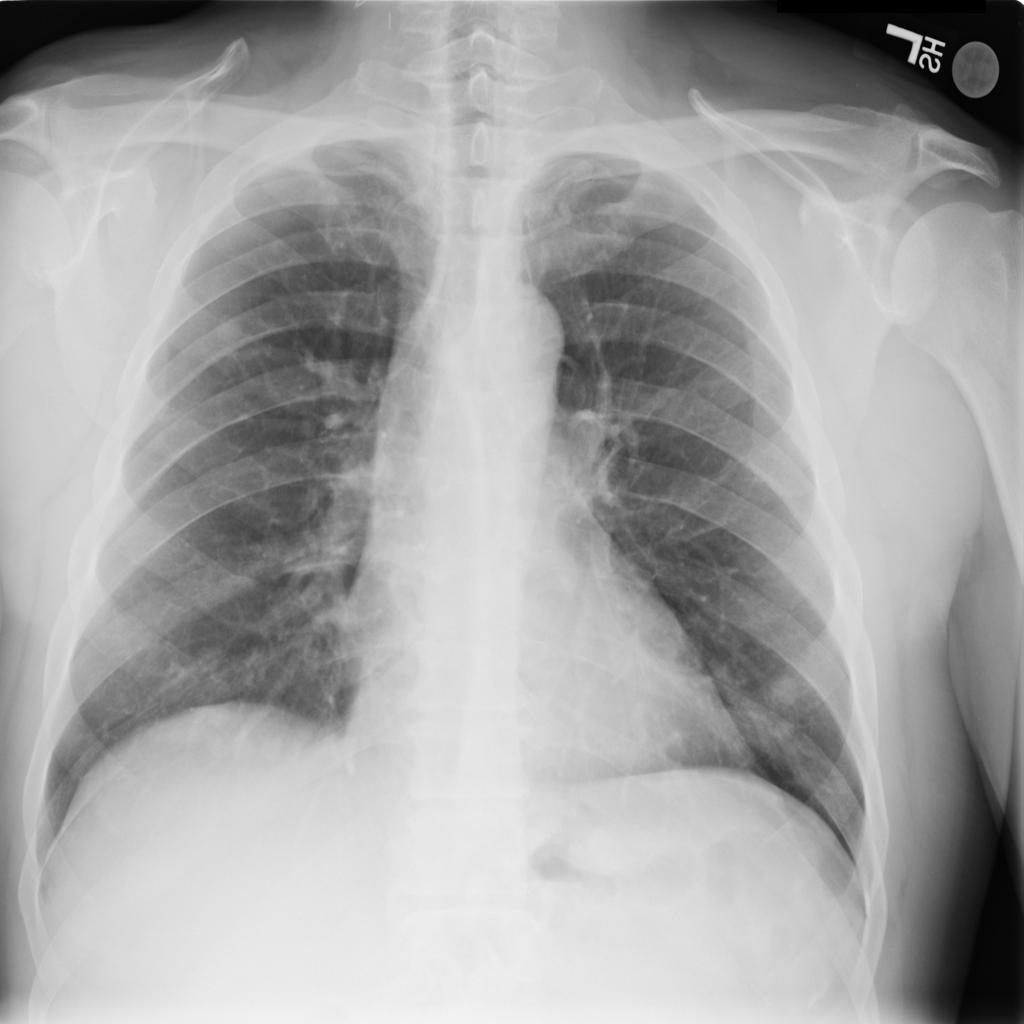nodule: (754, 648, 825, 721), (192, 297, 264, 364)
